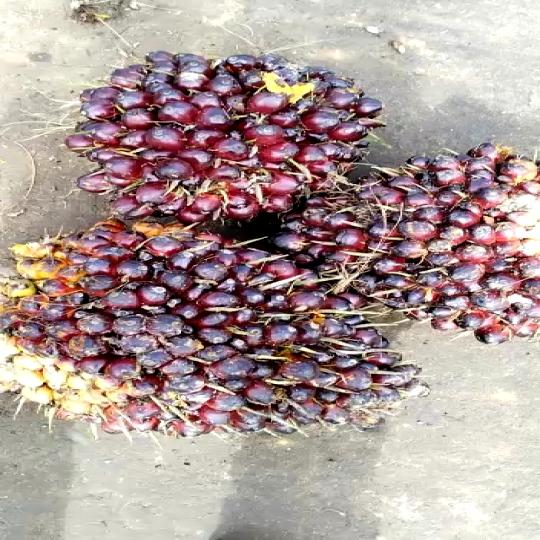kurang masak: (0, 224, 412, 468), (74, 48, 408, 240), (256, 146, 540, 342)
